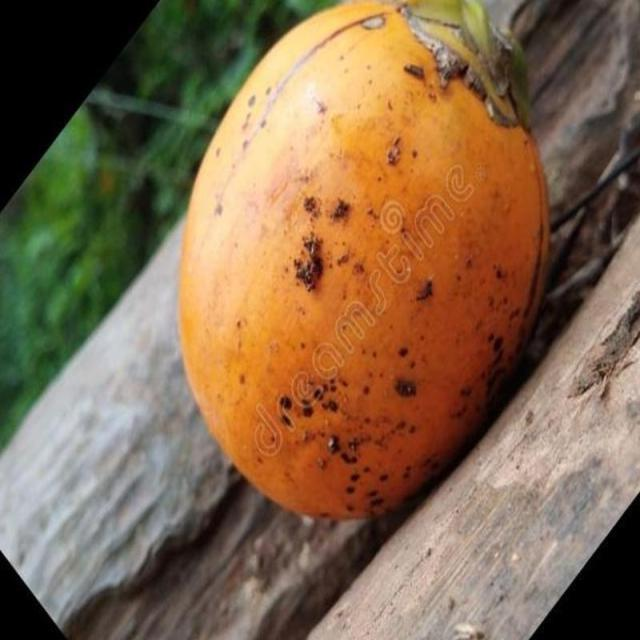good: (175, 0, 551, 524)
